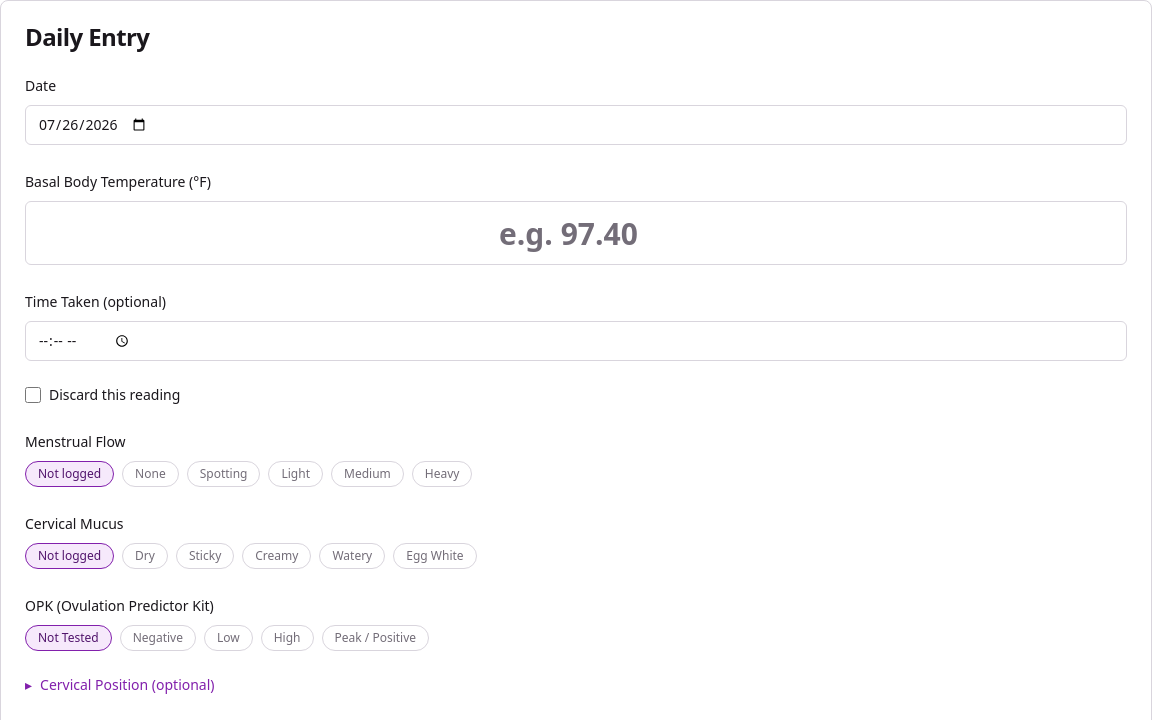
Test: EntryForm › shows discard reason field when discard is checked
The width and height of the screenshot is (1152, 720).
Click the checkbox labelled "Discard this reading": (33, 395) x1=25 y1=387 x2=41 y2=403
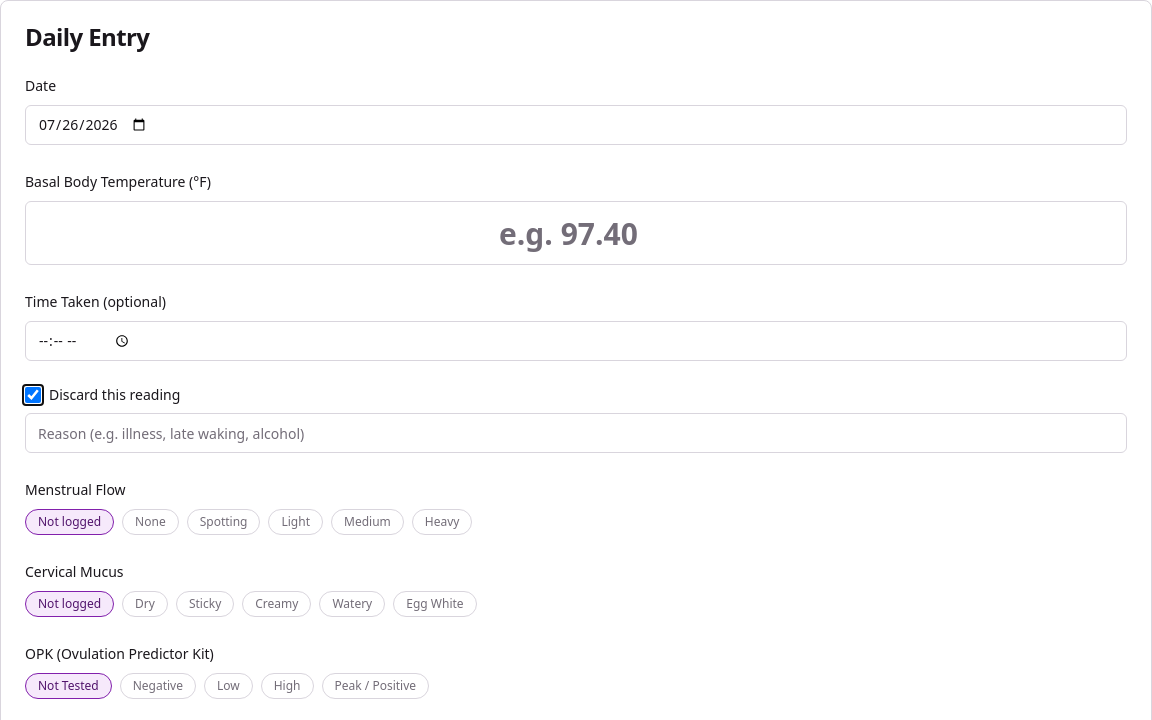
Expected: the field named "Discard reason" is shown, x1=25 y1=413 x2=1127 y2=453
